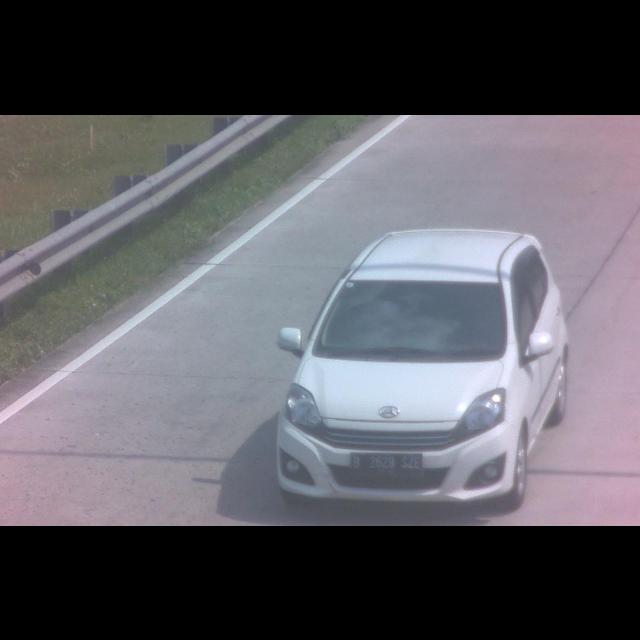plate: (349, 450, 426, 476)
